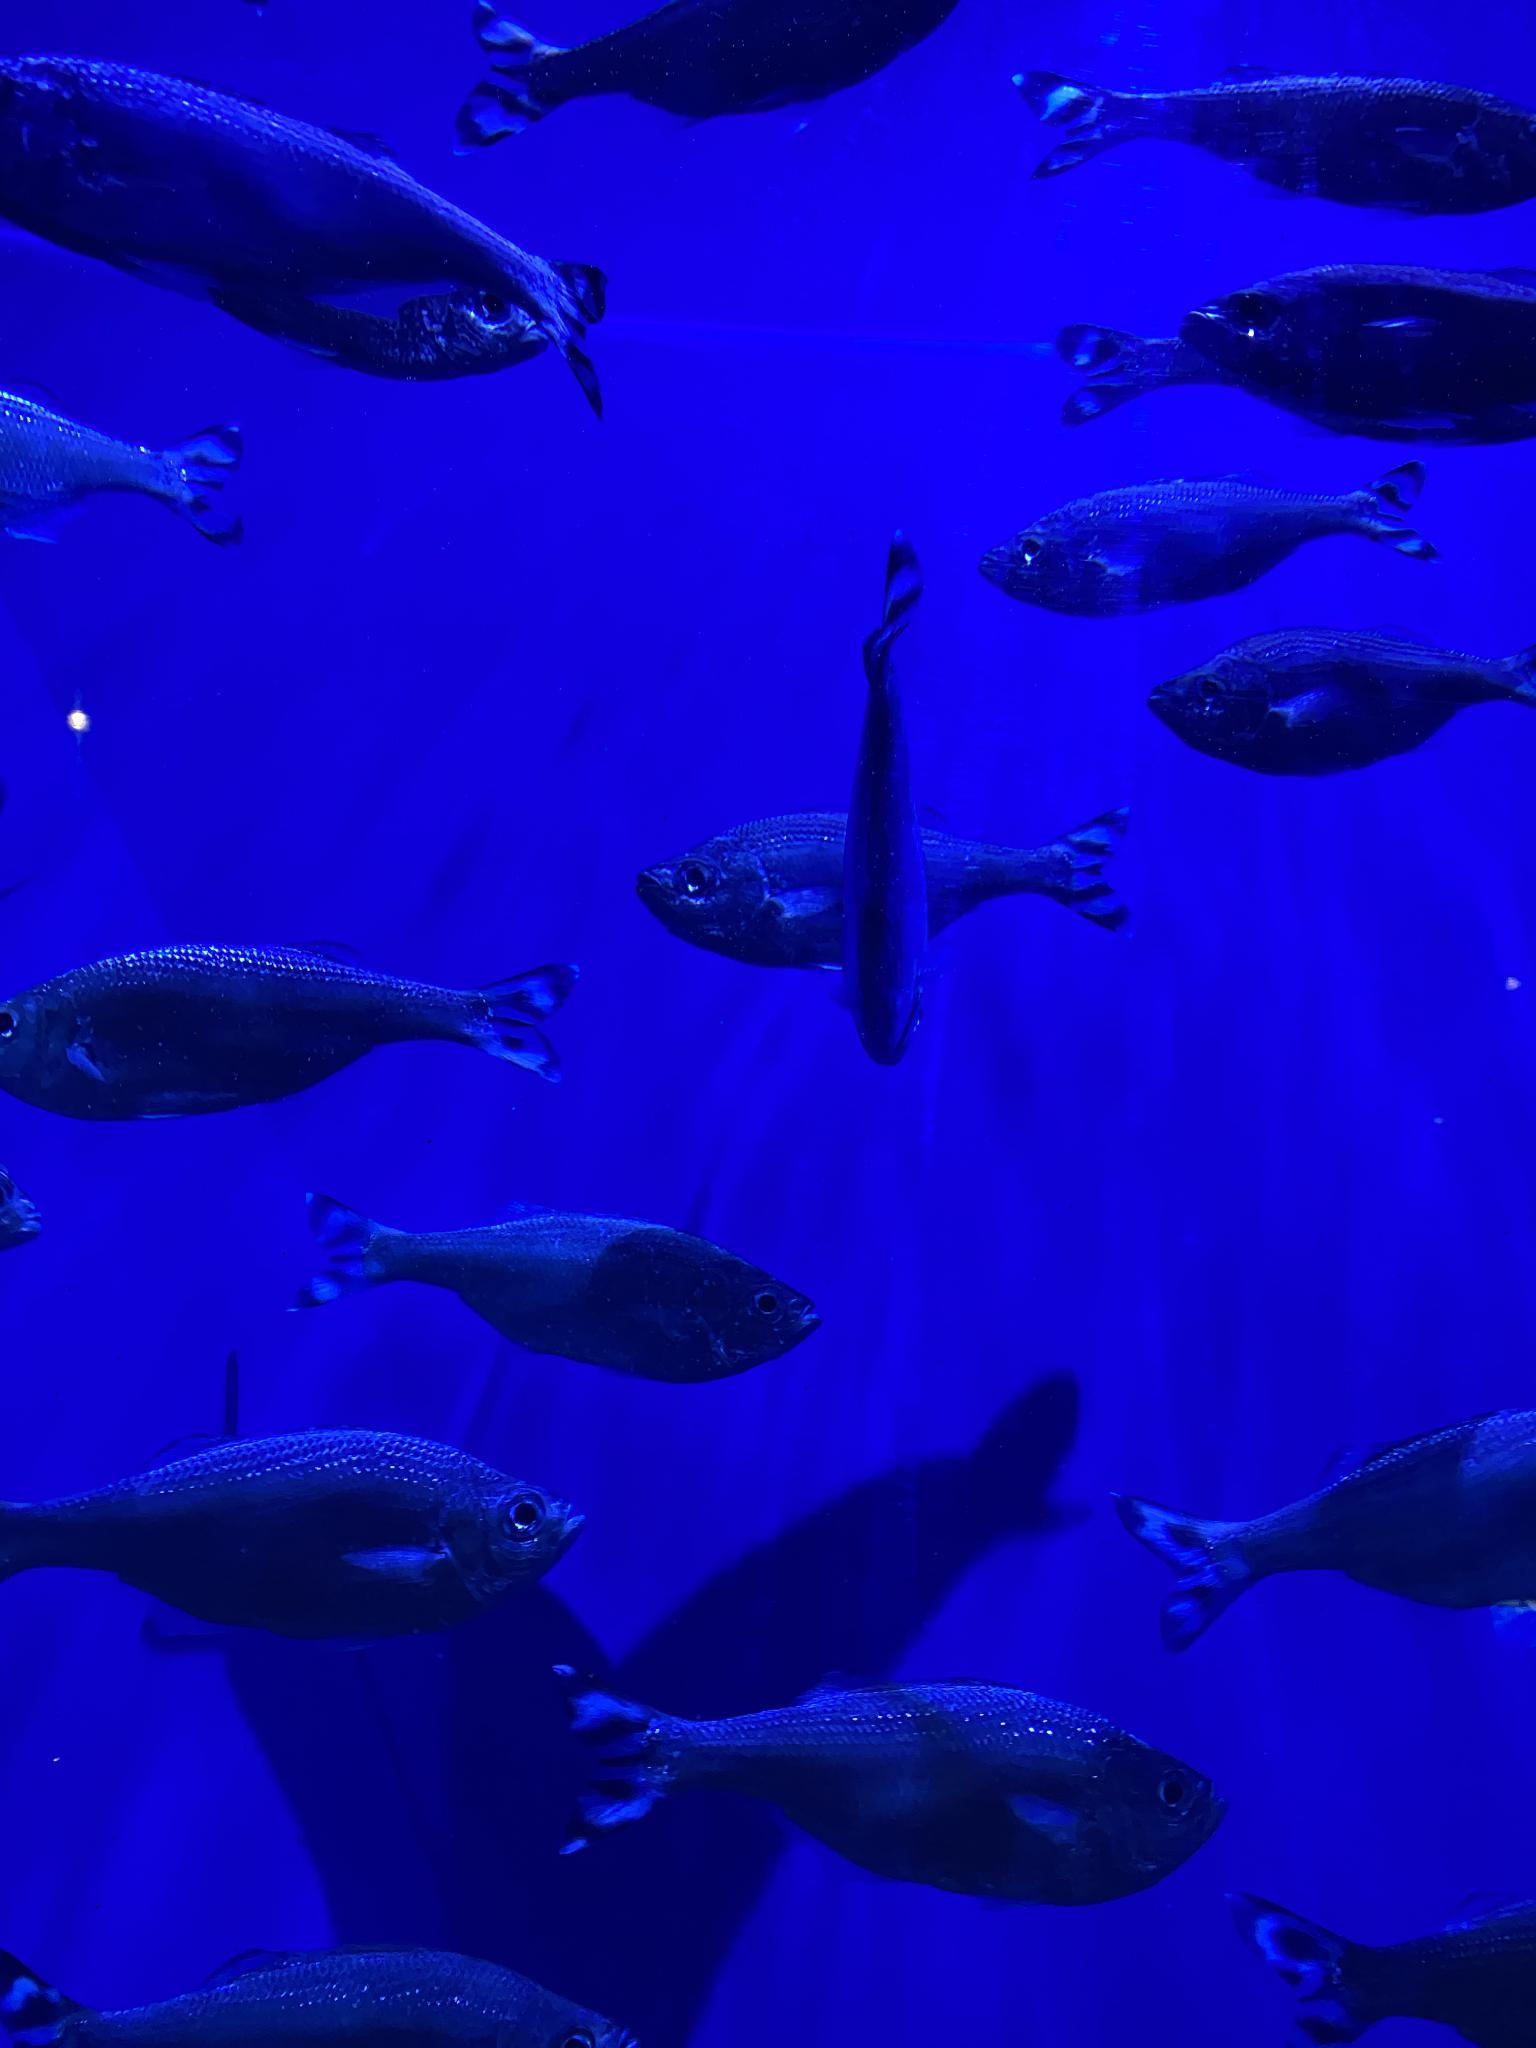fish: (0, 34, 587, 384), (582, 1659, 1212, 1888), (3, 1400, 599, 1634), (0, 913, 629, 1126), (1046, 255, 1536, 477), (1121, 1387, 1536, 1640), (315, 1179, 816, 1387), (516, 0, 1037, 182), (624, 792, 1162, 963), (1049, 48, 1536, 232), (963, 447, 1442, 619), (0, 1935, 650, 2046), (1157, 608, 1533, 800), (0, 356, 316, 564), (833, 545, 945, 1064), (1242, 1888, 1536, 2048)
